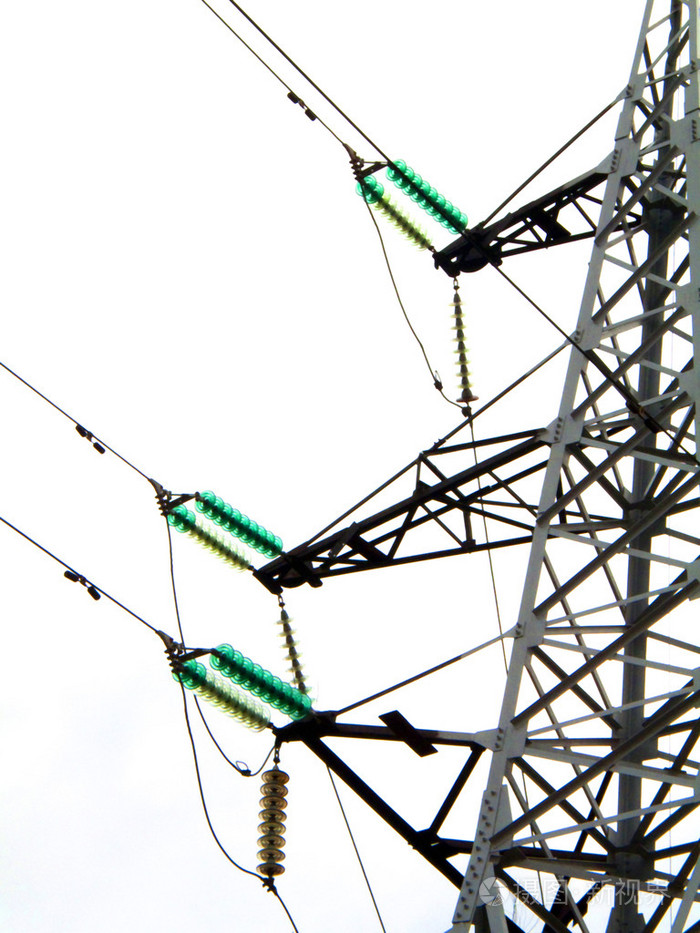insulator: (170, 656, 269, 738), (209, 647, 310, 722), (350, 178, 439, 247), (387, 162, 472, 230), (195, 492, 283, 555), (166, 505, 247, 572), (442, 293, 481, 404), (256, 767, 289, 880), (276, 614, 310, 691)
